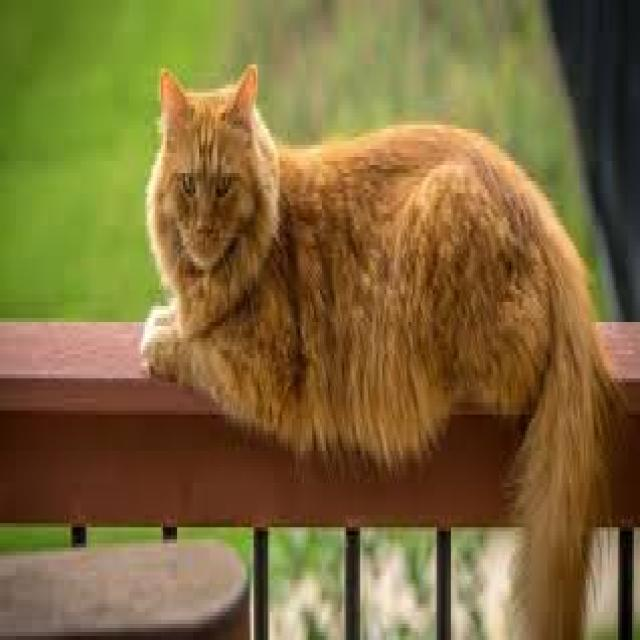sarman: (86, 40, 630, 598)
